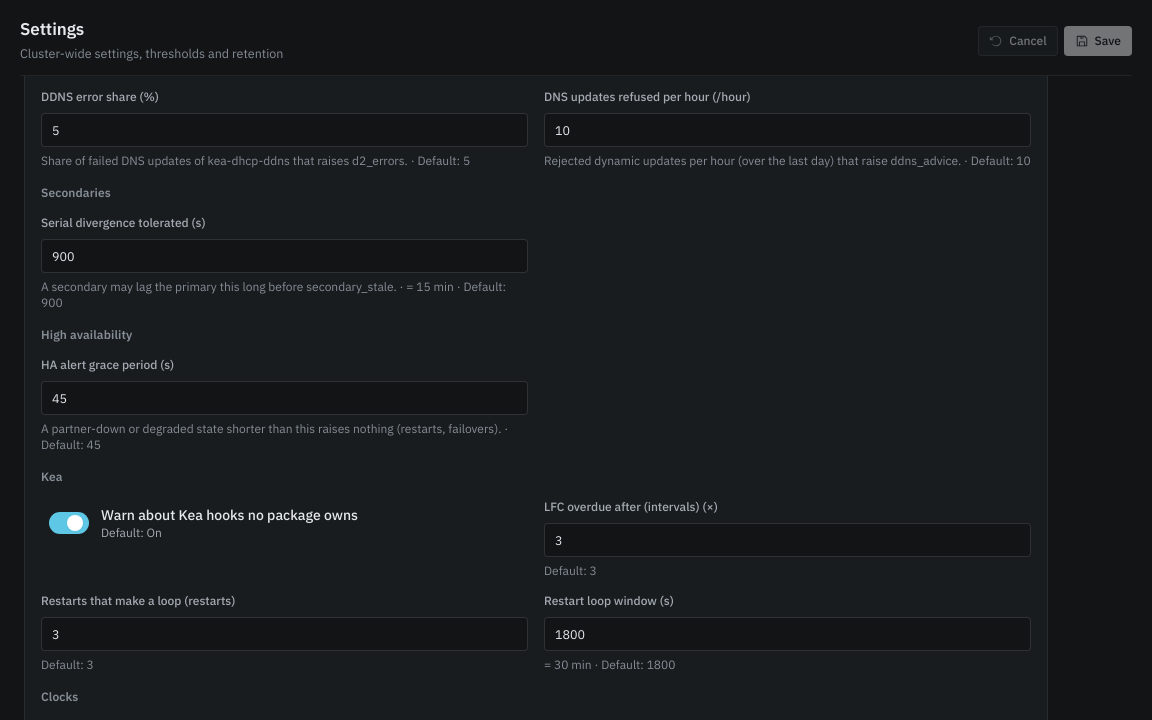
Test: SettingsPage › rejects an out of range value before the server sees it
This screenshot has width=1152, height=720.
(page scrolled)
Replace the text in the number field labelled "HA alert grace period (s)" with "7200" at (284, 398), box [41,381,528,415]
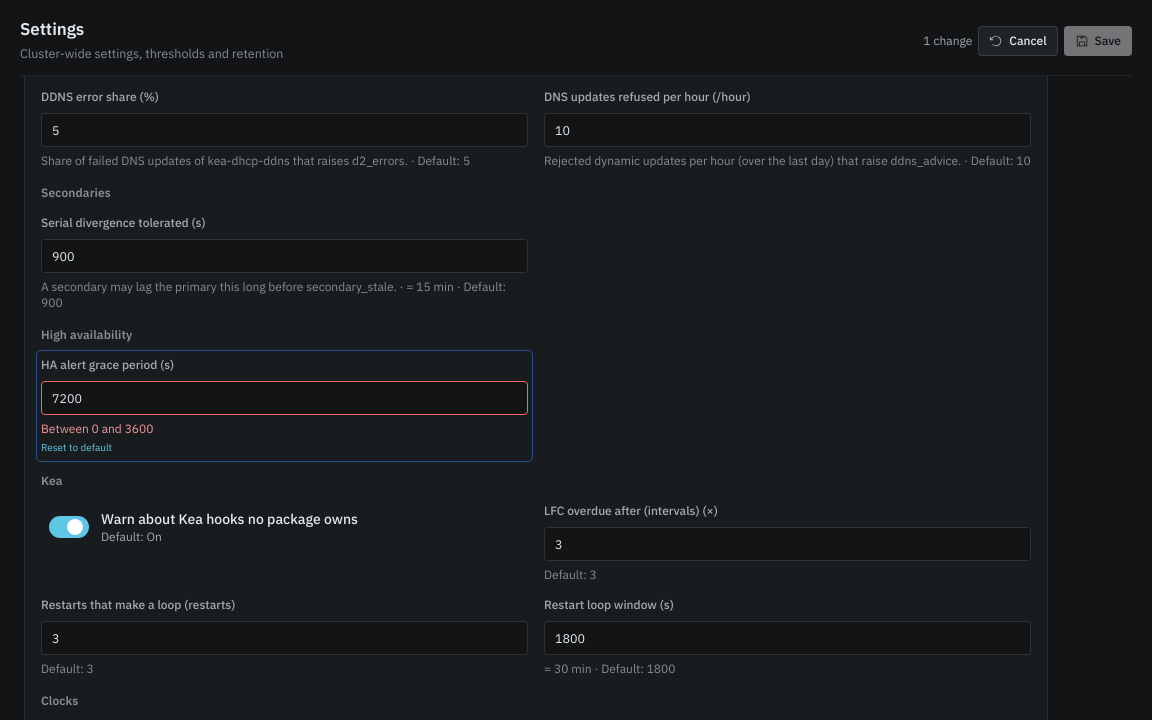
Expected: the button with test id "settings-save" is disabled, [1064,26,1132,56]
Now the text "Between 0 and 3600" is shown, box [41,421,154,436]
